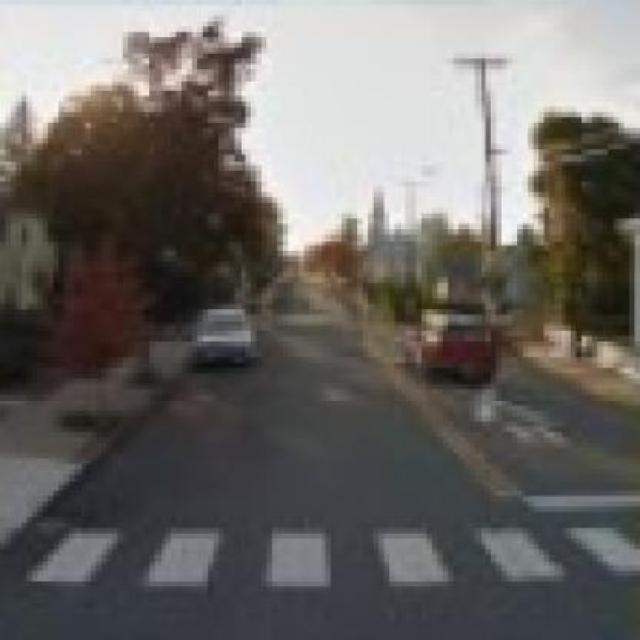crosswalk: (33, 527, 638, 582)
